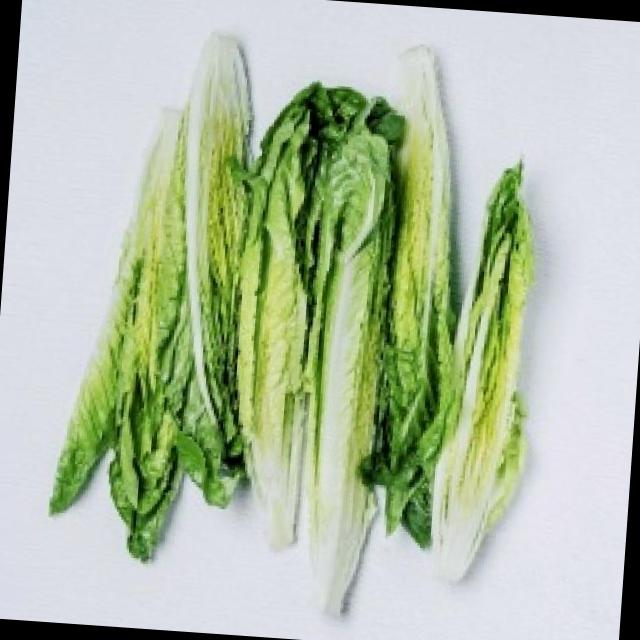Lettuce-Ready-to-Harvest: (49, 115, 243, 560), (237, 83, 388, 544), (310, 97, 405, 611), (363, 47, 457, 546), (431, 164, 533, 581), (185, 33, 253, 423)
